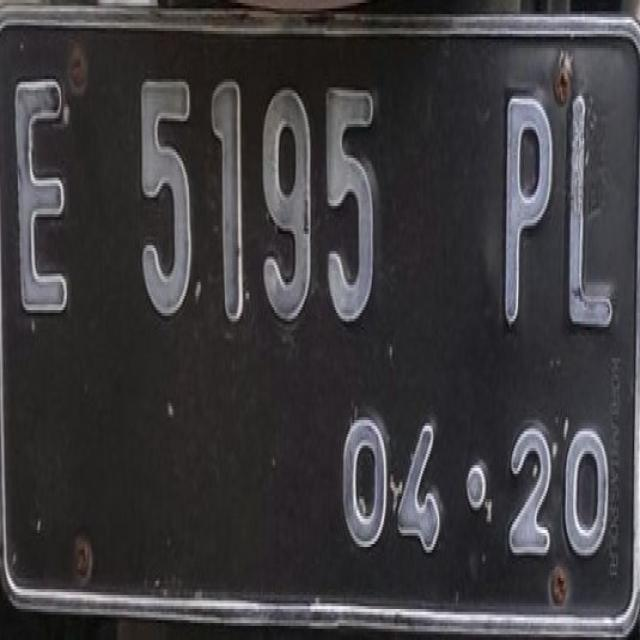plate: (0, 6, 638, 628)
